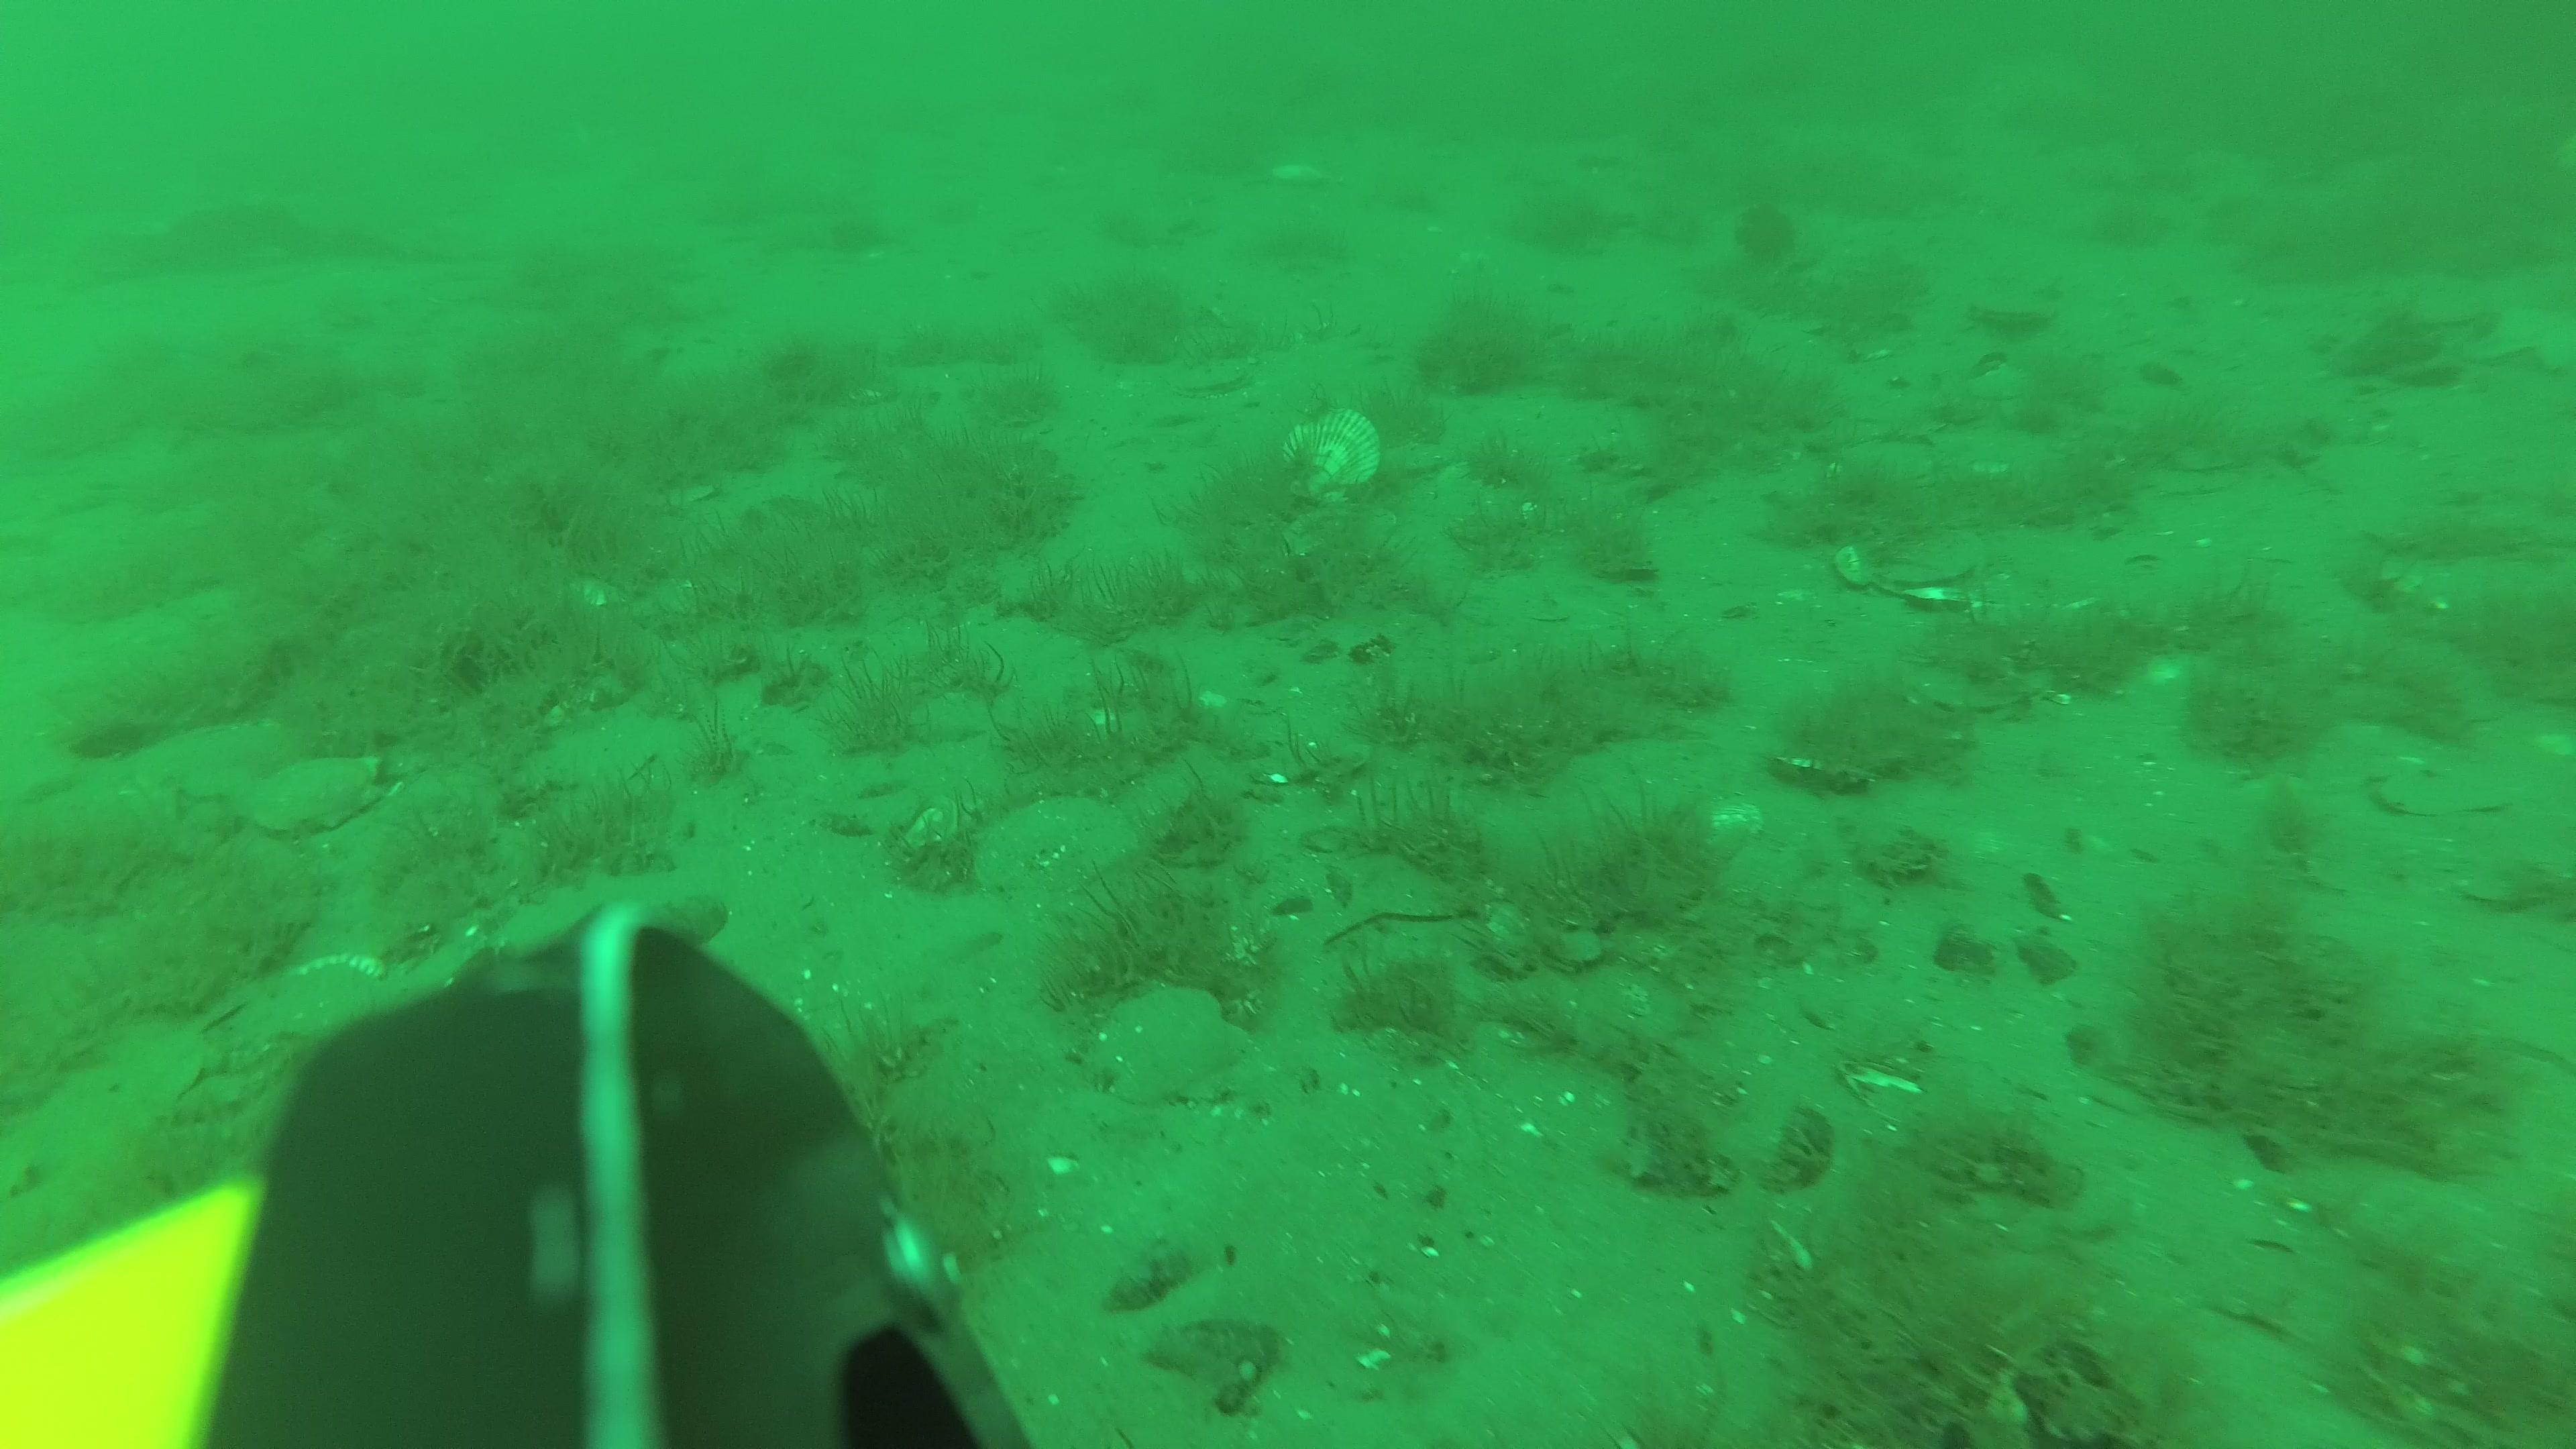scallop: (1086, 985, 1249, 1104), (1838, 536, 1978, 610), (251, 755, 380, 828), (1283, 414, 1380, 506)
